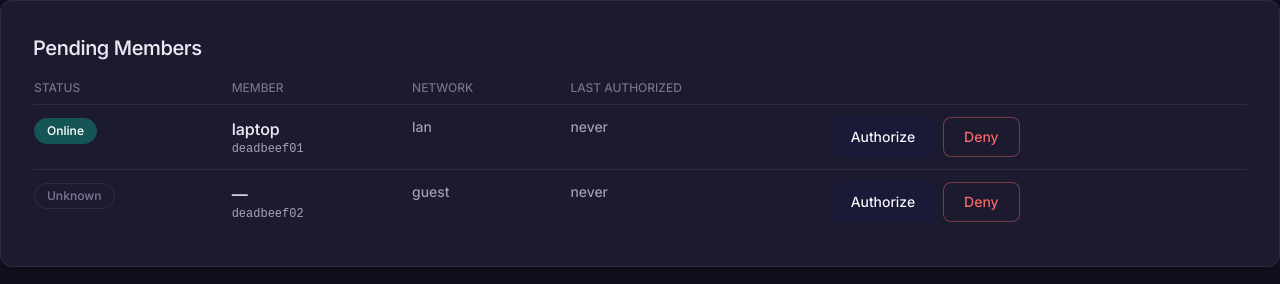
PendingMembers › optimistically hides the row when authorizing (feels instant)
Expected: the text "laptop" is shown, [232,119,280,139]
Click the button "Authorize" in the row of "Online" at {"x": 883, "y": 137}, box [831,117,935,157]
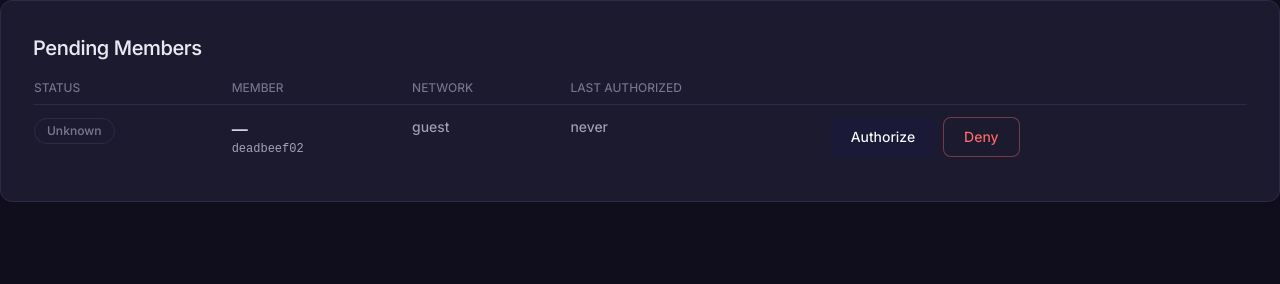
Expected: the text "guest" is shown, [411,104,569,169]
Expected: the text "laptop" is gone
